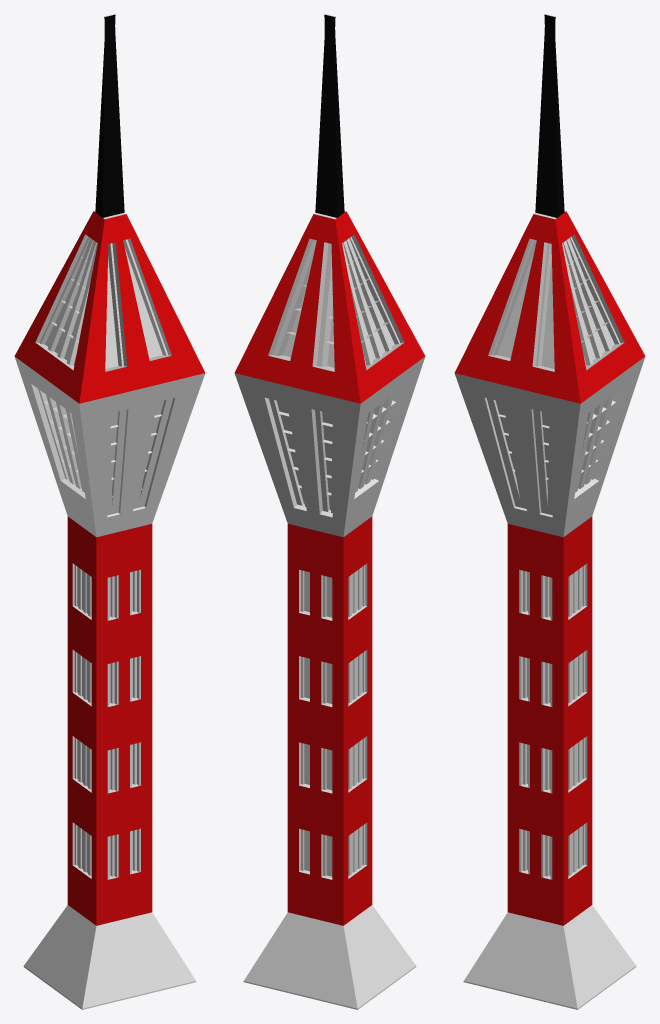
File: the_lamppost.fbx
The picture shows the model from 3 angles, left to right: view 1: azimuth 30°, elevation 25°; view 2: azimuth 150°, elevation 25°; view 3: azimuth 330°, elevation 25°; orthographic projection.
Visible parts, largest first — view 1: the_lamppost; view 2: the_lamppost; view 3: the_lamppost.
Boxes of the visible parts, x1,y1,x2,y2 form: the_lamppost: (14,14,205,1009); the_lamppost: (234,14,425,1009); the_lamppost: (454,14,645,1009).
Bounding box in the file's own units: 306 × 2222 × 272.
